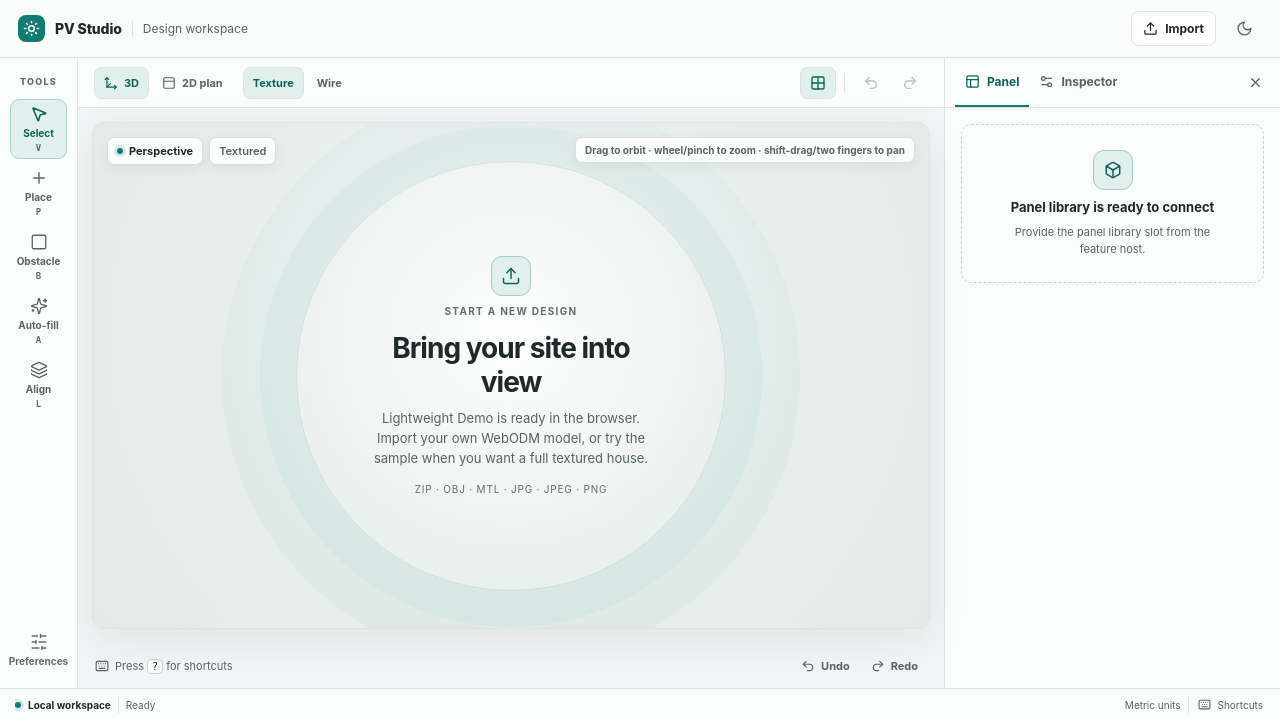
Scenario: Shell › exposes move and rotate actions for the selected panel group
The width and height of the screenshot is (1280, 720).
Click the tab "Inspector": (1078, 82) [1030, 58, 1127, 107]
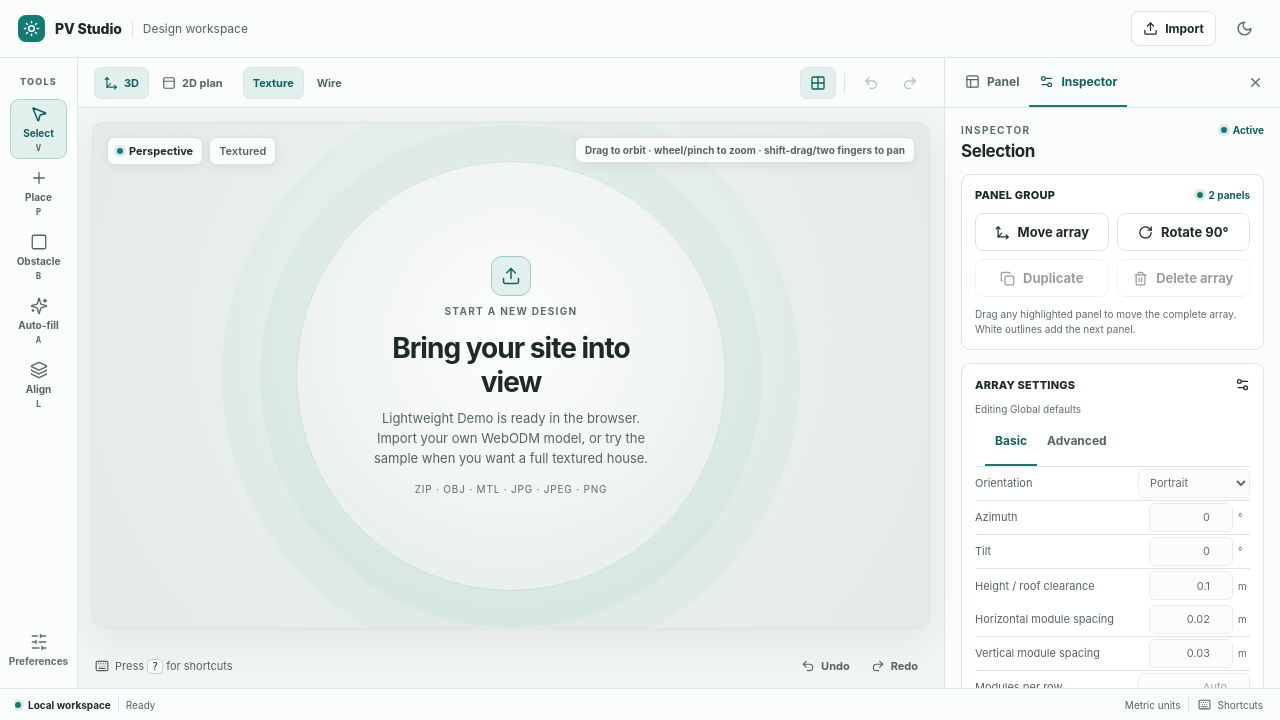
expect the heading "Panel group" is shown: met, box [975, 188, 1055, 202]
expect the text "2 panels" is shown: met, box [1197, 189, 1250, 201]
expect the number field named "Horizontal module spacing in metres" holds "0.02": met, box [1149, 604, 1233, 634]
Click the button "Move array": (1042, 232) [975, 213, 1108, 251]
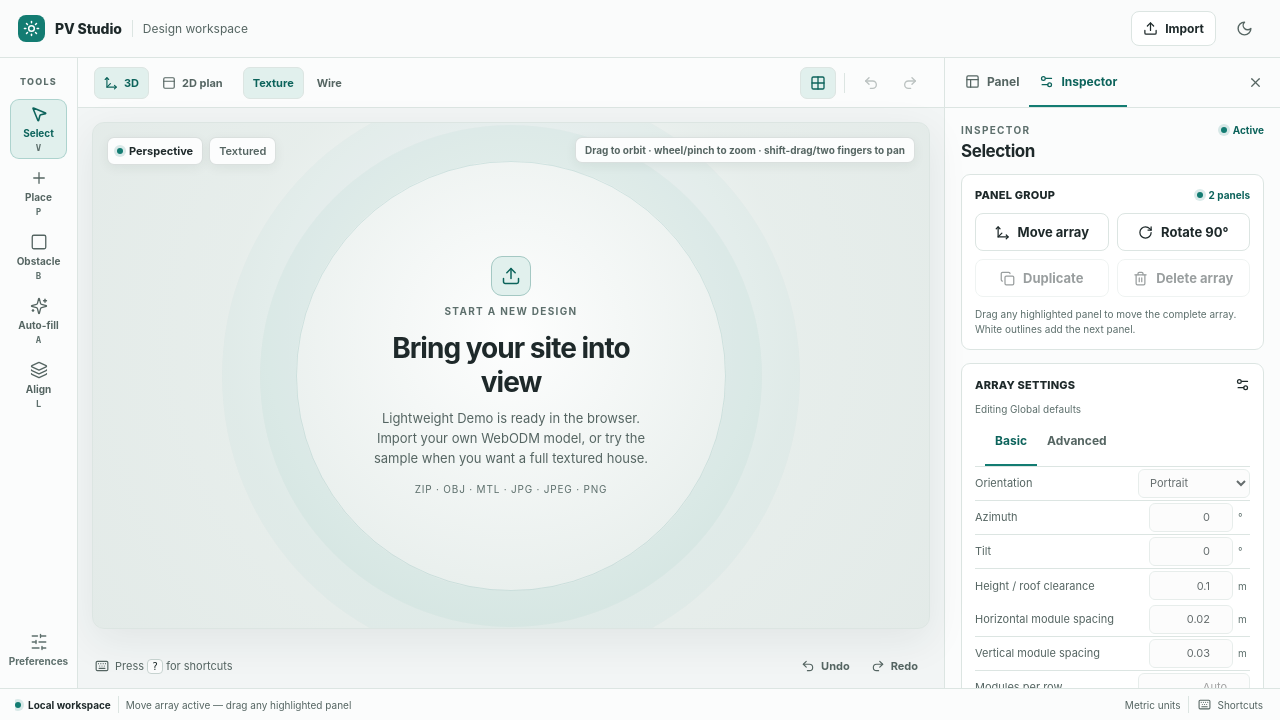
Click the button "Rotate 90°": (1183, 232) [1116, 213, 1250, 251]
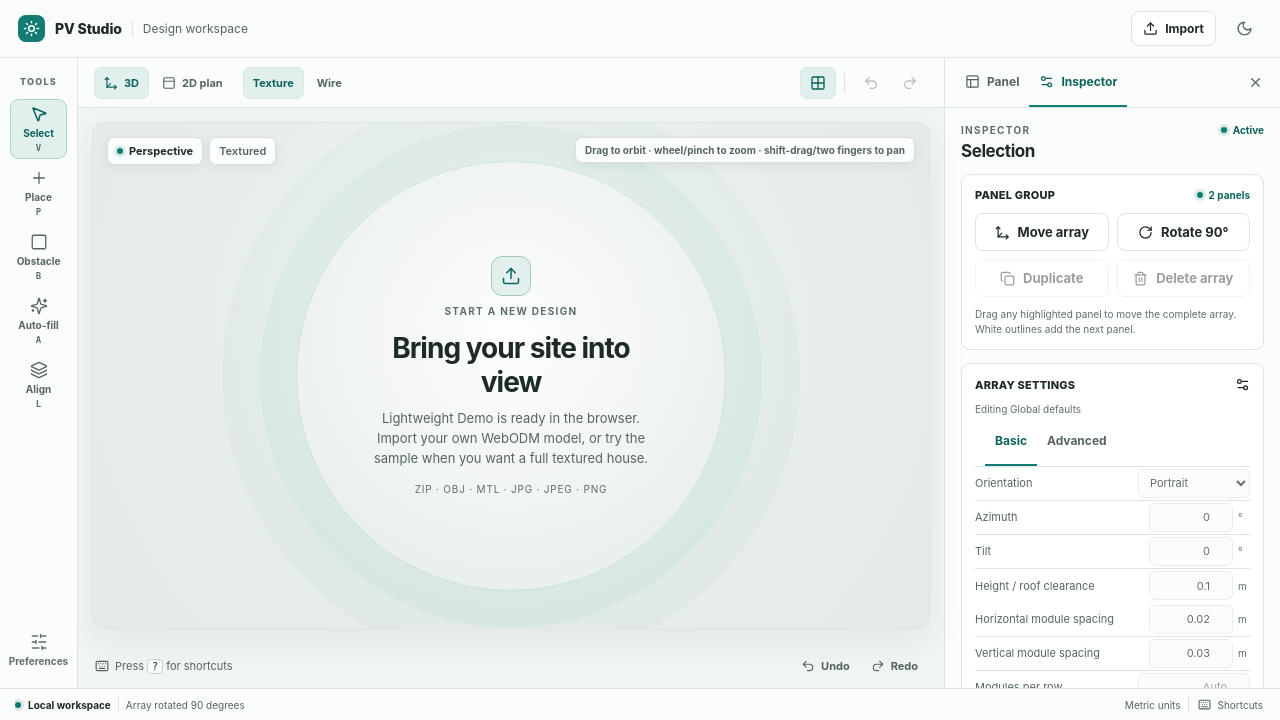
expect the footer named "Workspace status" shows "Array rotated 90 degrees": met, box [126, 698, 245, 710]
